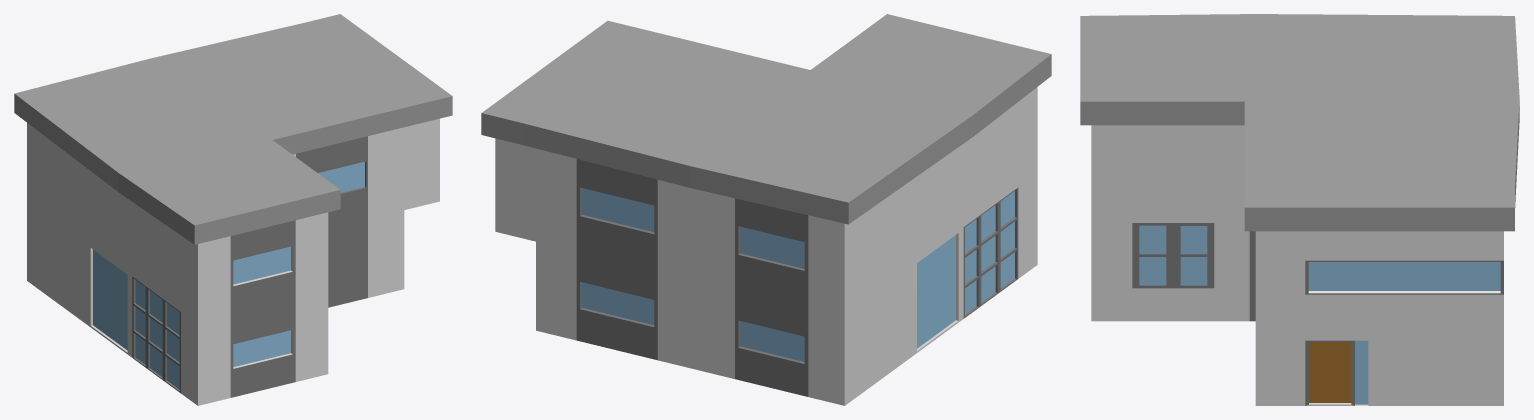
The model's file is wilad.fbx.
The picture shows the model from 3 angles, left to right: view 1: azimuth 30°, elevation 25°; view 2: azimuth 150°, elevation 25°; view 3: azimuth 270°, elevation 25°; orthographic projection. The views are drawn at different scales.
Parts seen in each view (by area): view 1: Cube; view 2: Cube; view 3: Cube.
Boxes of the visible parts, x1,y1,x2,y2 form: Cube: (14,14,452,405); Cube: (481,14,1051,405); Cube: (1080,14,1519,405).
Bounding box in the file's own units: 846 × 456 × 811.
